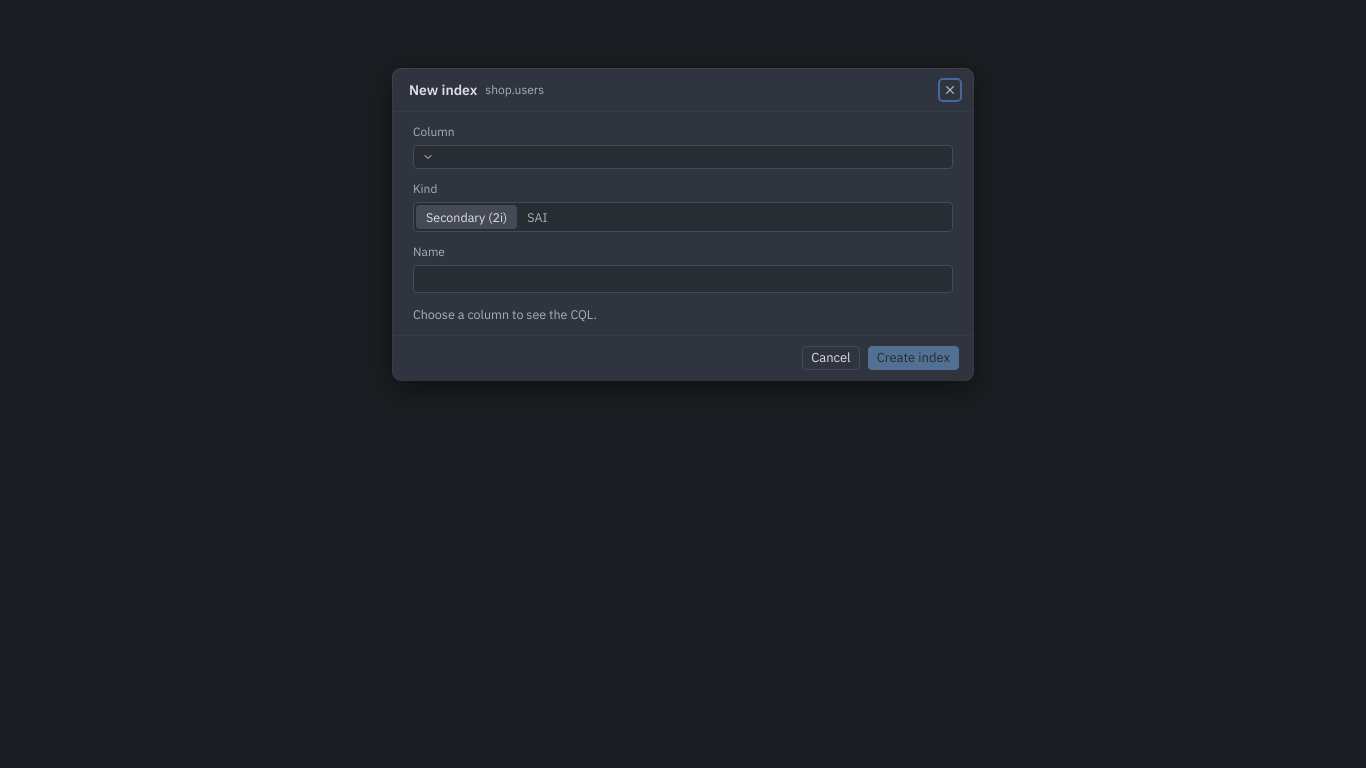
NewIndexDialog › defaults vector columns to SAI with a similarity function and blocks legacy
Click the button named "Column". click: (428, 157)
box: [413,145,953,169]
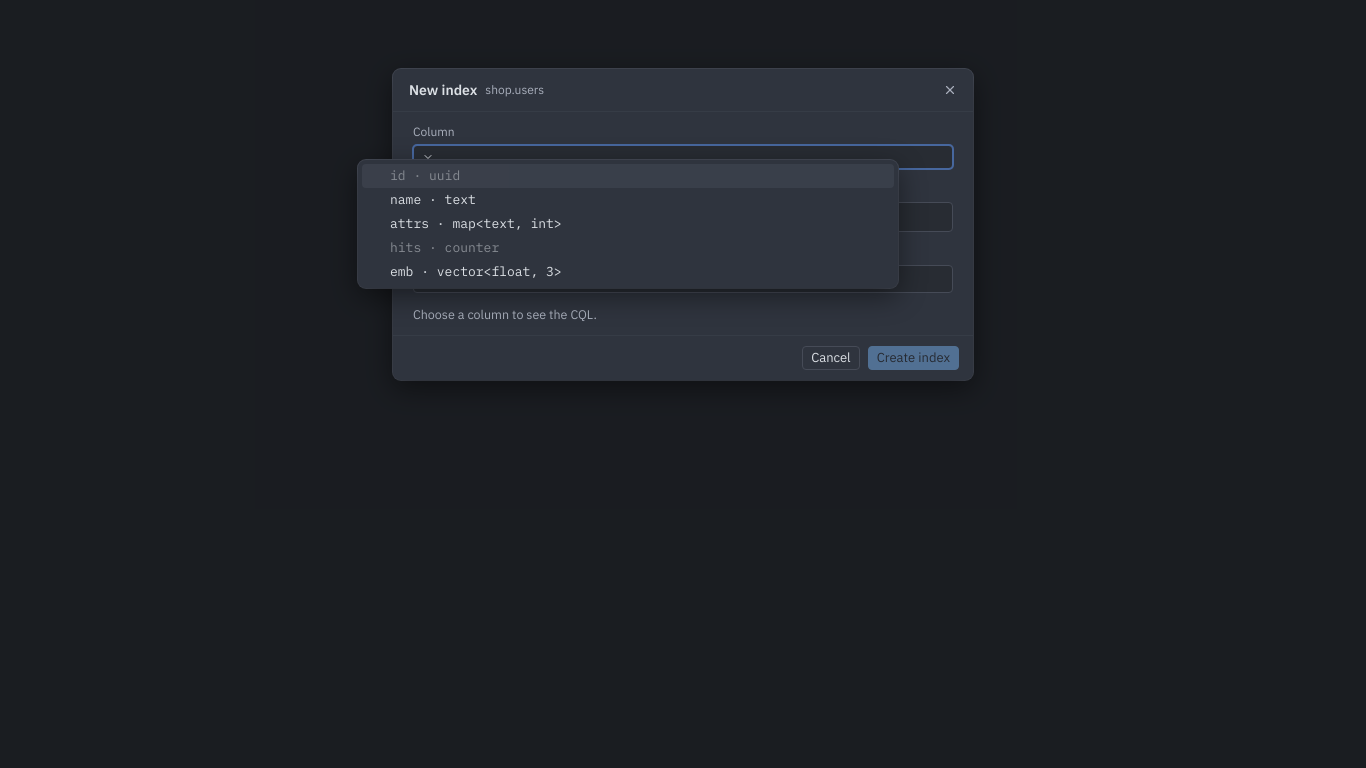
Click the option "emb · vector<float, 3>". click: (476, 271)
box: [390,263,562,280]
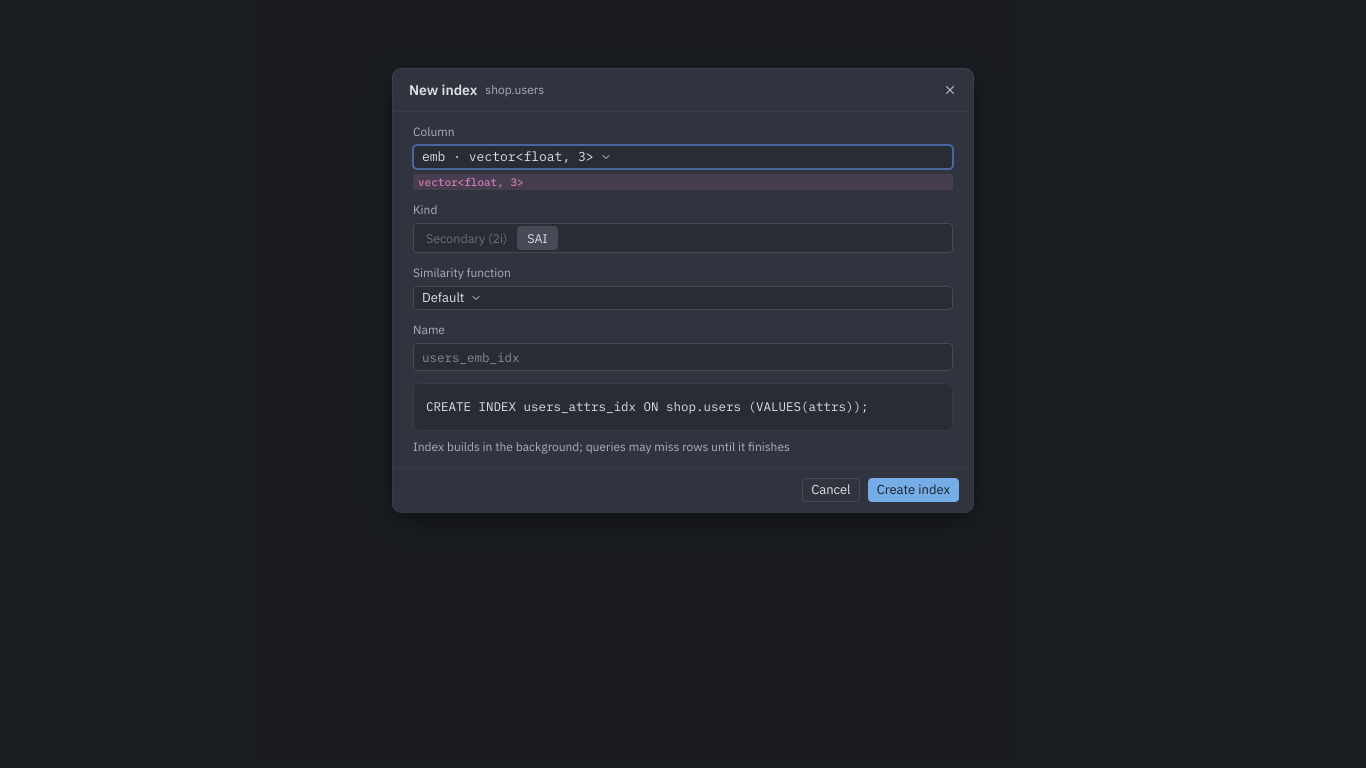
Result: the radio button labelled "Secondary (2i)" is disabled at [416,226,517,250]
Result: the button with aria-label "Similarity function" is shown at [413,286,953,310]
